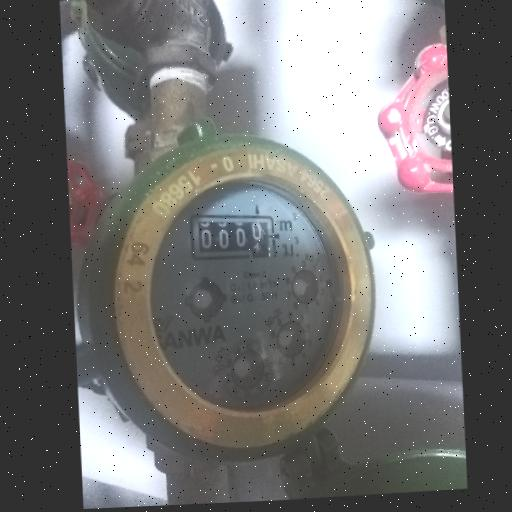0: (249, 220, 269, 257), (231, 220, 252, 252), (198, 221, 218, 253), (215, 221, 235, 253)
border_water_meter_number: (189, 210, 278, 263)
